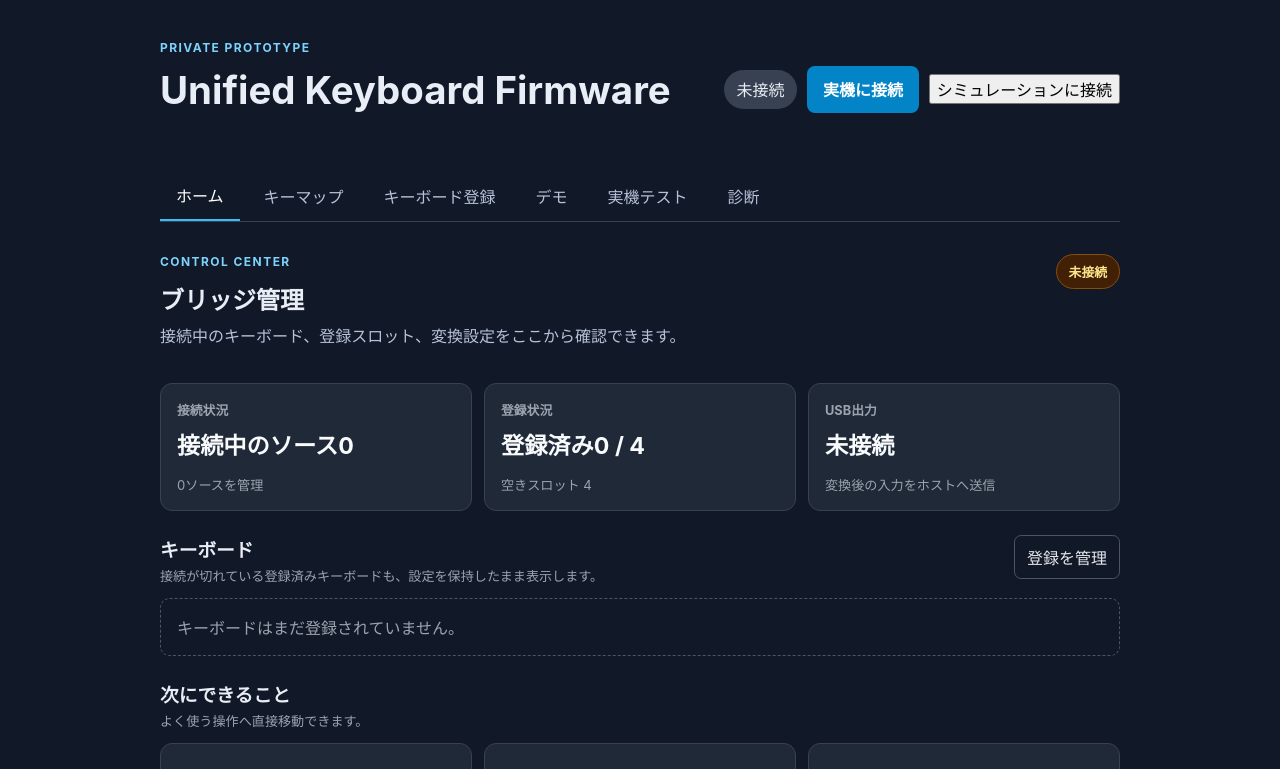
Test: physical bridge › rolls back a physical optimistic update when the write fails
What coordinates should you click on to do the following:
click the button "実機に接続"
I would click on:
 (863, 89)
Its box is left=807, top=66, right=919, bottom=113.
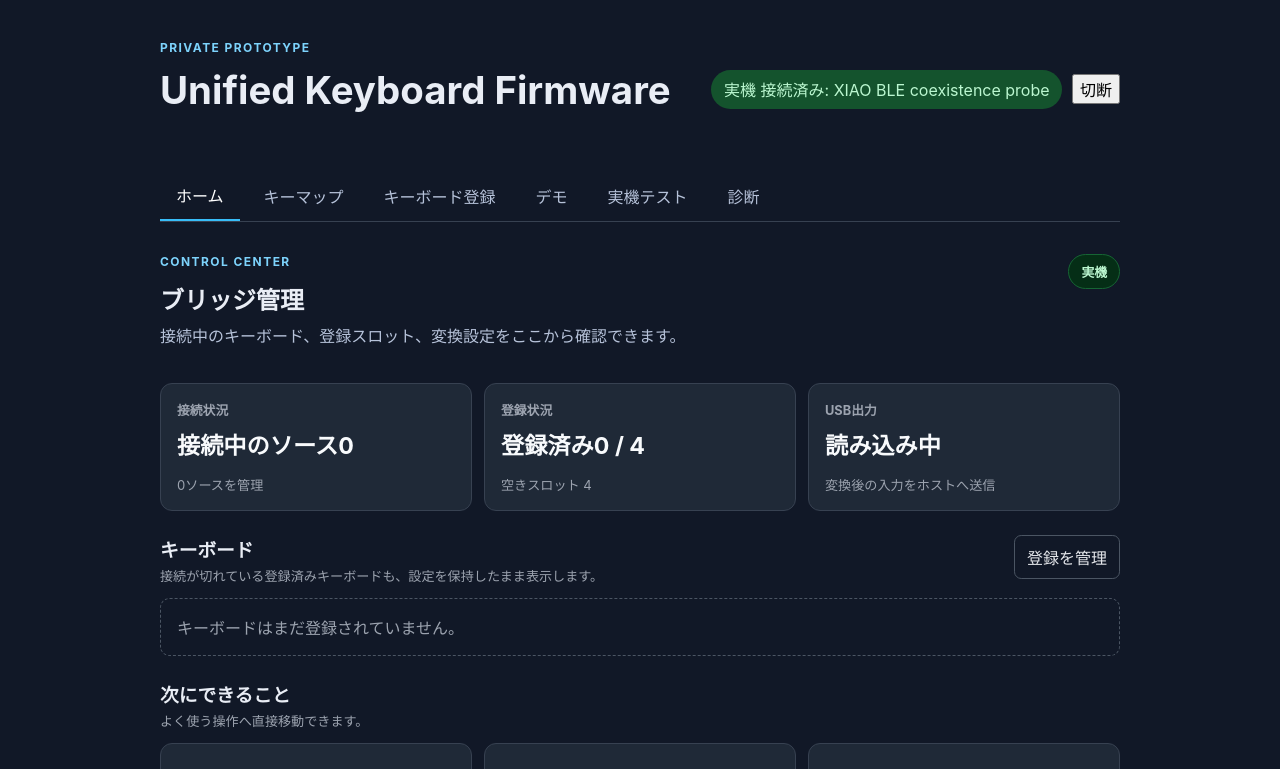
What coordinates should you click on to do the following:
click the button "キーマップ"
I would click on:
 (304, 196)
Its box is left=248, top=171, right=360, bottom=221.
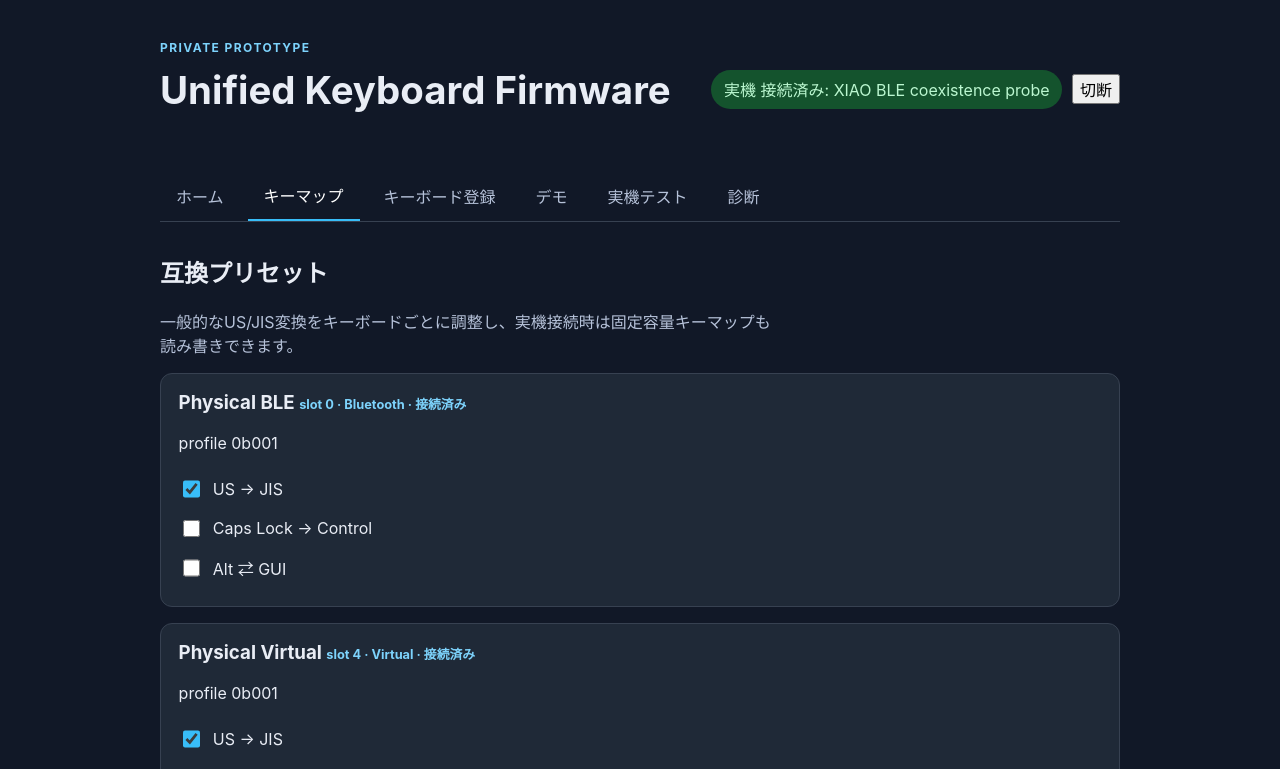
What coordinates should you click on to do the following:
click the checkbox labelled "Caps Lock → Control" below "Physical BLE"
I would click on:
 (191, 528)
Its box is left=183, top=520, right=200, bottom=537.
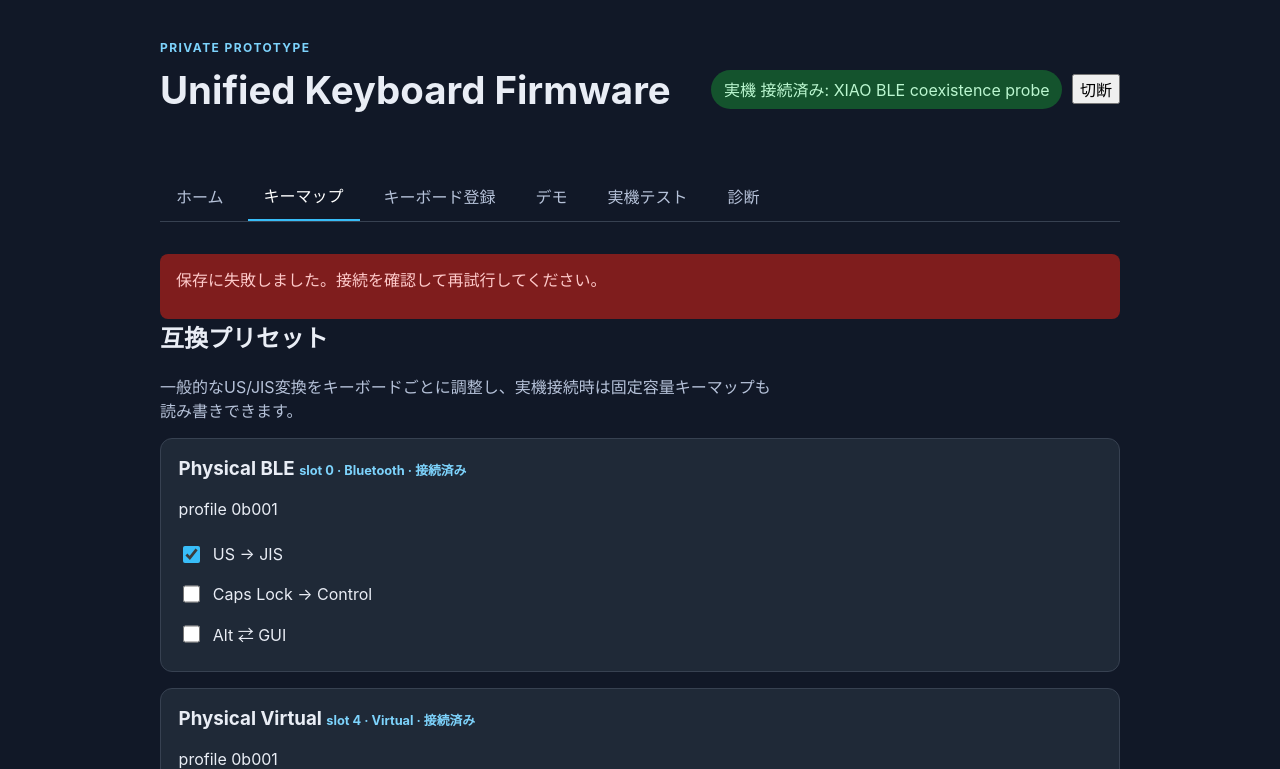
Expected: the checkbox labelled "Caps Lock → Control" is not checked, left=183, top=585, right=200, bottom=603
Expected: the message shows "保存に失敗しました", left=176, top=270, right=607, bottom=290
